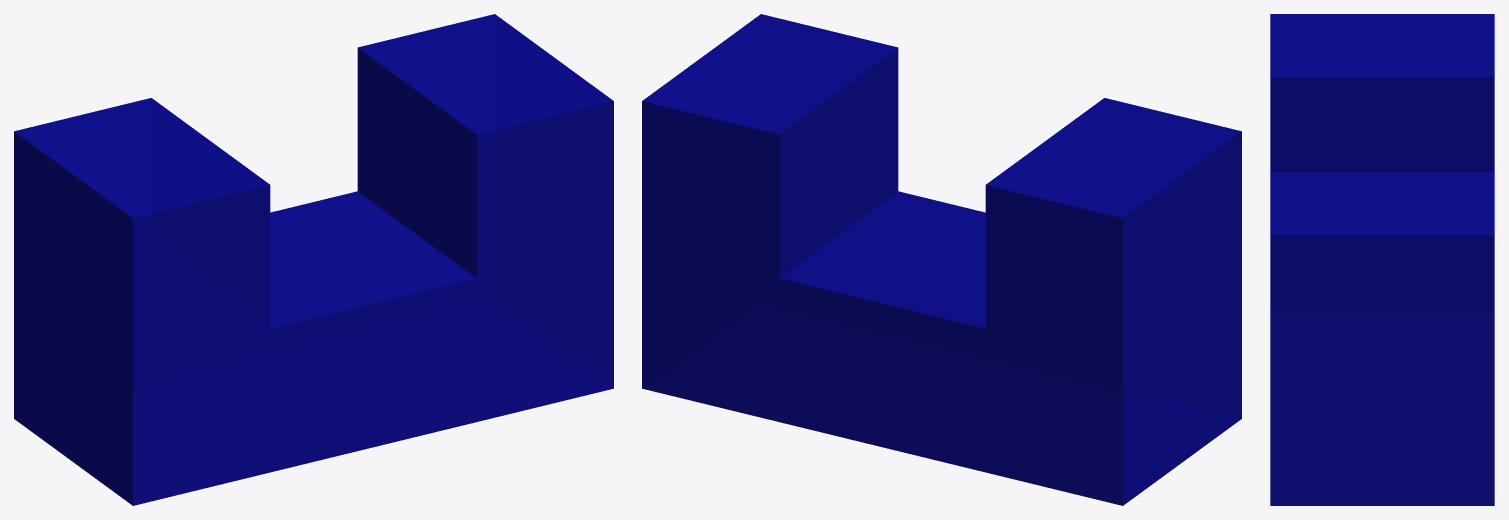
3 views of the same model, side by side, from view 1: azimuth 30°, elevation 25°; view 2: azimuth 150°, elevation 25°; view 3: azimuth 270°, elevation 25° (orthographic). The views are drawn at different scales.
Visible parts, largest first — view 1: SketchUp; view 2: SketchUp; view 3: SketchUp.
Boxes of the visible parts, box(x1,y1,x2,y2) form: SketchUp: box(14, 14, 613, 505); SketchUp: box(642, 14, 1241, 505); SketchUp: box(1270, 14, 1494, 505).
Size of the model in its own units: 276 by 118 by 157.
